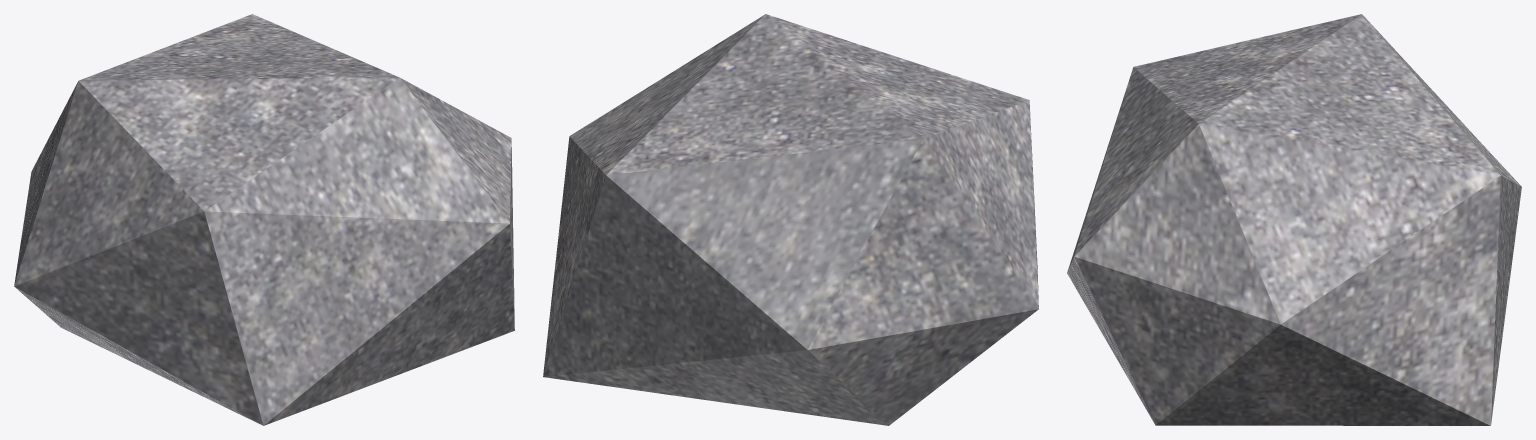
Rendered from SharockFootRight.obj.
The picture shows the model from 3 angles, left to right: view 1: azimuth 30°, elevation 25°; view 2: azimuth 150°, elevation 25°; view 3: azimuth 270°, elevation 25°; orthographic projection.
Visible parts, largest first — view 1: Icosphere.001_Icosphere.005; view 2: Icosphere.001_Icosphere.005; view 3: Icosphere.001_Icosphere.005.
Part boxes in pixels (box(x1,y1,x2,y2)): Icosphere.001_Icosphere.005: box(14, 14, 514, 425); Icosphere.001_Icosphere.005: box(543, 14, 1038, 425); Icosphere.001_Icosphere.005: box(1067, 14, 1521, 425).
Size of the model in its own units: 0.6675 by 0.3617 by 0.5524.
